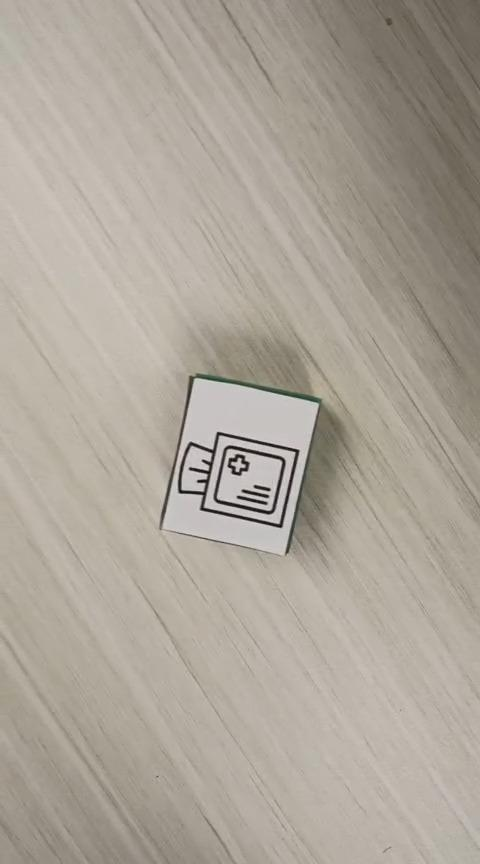Gauze: (158, 371, 322, 556)
